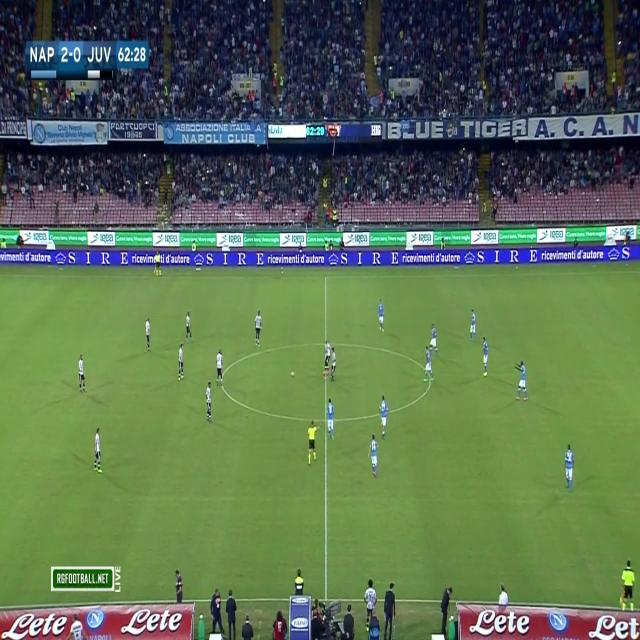Ball: (290, 368, 298, 382)
Player: (513, 358, 530, 406), (563, 440, 576, 497), (324, 395, 337, 443), (367, 432, 379, 478), (479, 335, 491, 380), (379, 392, 390, 440), (92, 425, 102, 476), (376, 292, 387, 337), (422, 342, 433, 386), (76, 353, 87, 394), (322, 337, 332, 381), (215, 346, 225, 387), (329, 344, 338, 386), (204, 382, 213, 424), (430, 319, 440, 356), (255, 309, 264, 349), (184, 308, 194, 342), (468, 305, 477, 342), (178, 342, 185, 384), (144, 316, 151, 355)
Referee: (617, 558, 638, 612), (304, 418, 320, 468), (154, 250, 162, 280)
